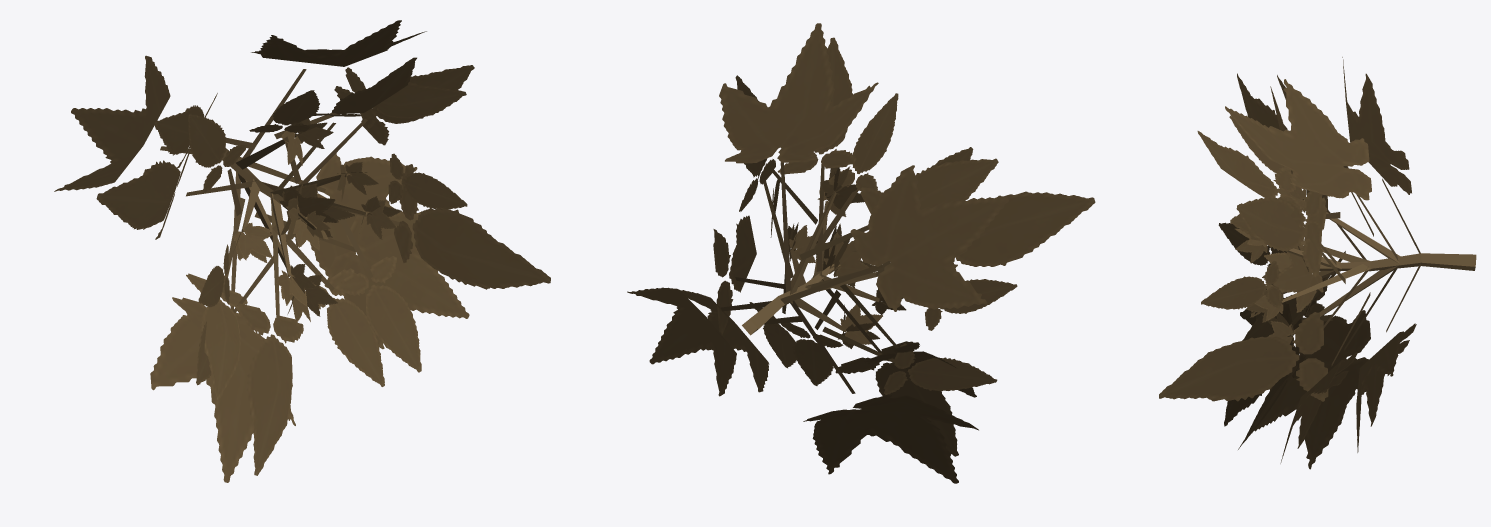
The model's file is p_afghan_vegetative_c3_cards.obj.
3 views of the same model, side by side, from view 1: azimuth 30°, elevation 25°; view 2: azimuth 150°, elevation 25°; view 3: azimuth 270°, elevation 25° (orthographic). The views are drawn at different scales.
Bounding box in the file's own units: 1.25 × 1.27 × 0.805.
1 material, 1 textured.
